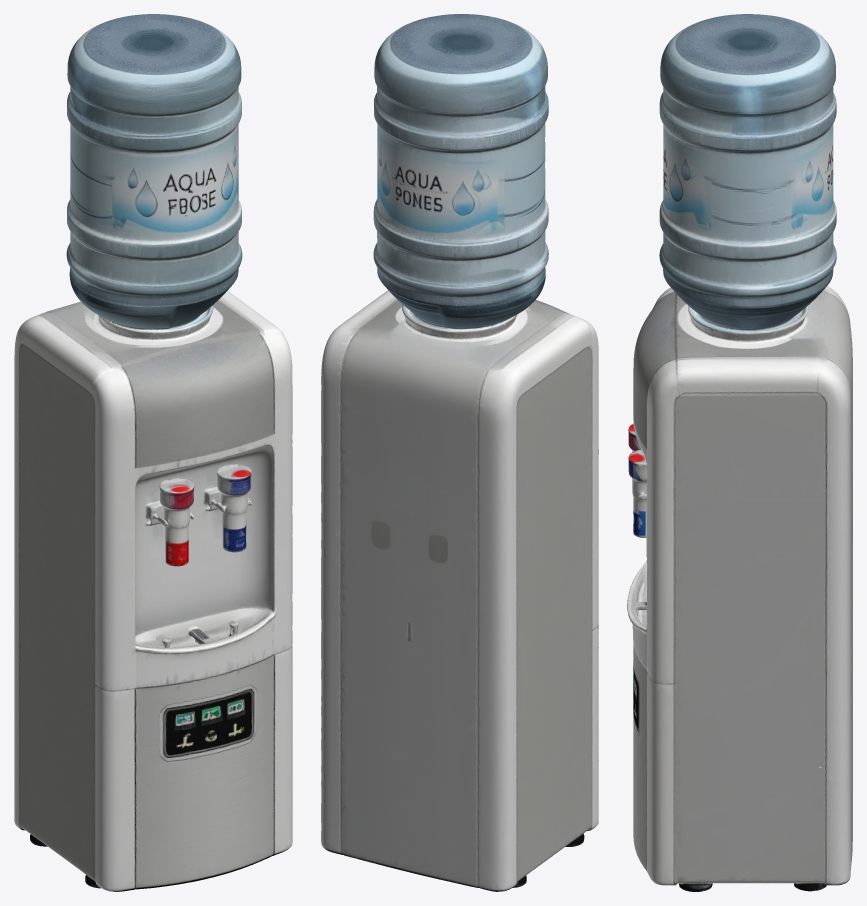
The model's file is water_cooler.glb.
The picture shows the model from 3 angles, left to right: view 1: azimuth 30°, elevation 25°; view 2: azimuth 150°, elevation 25°; view 3: azimuth 270°, elevation 25°; orthographic projection.
Size of the model in its own units: 0.4749 by 1.9 by 0.4835.
Materials: 1 (1 with a texture image).
